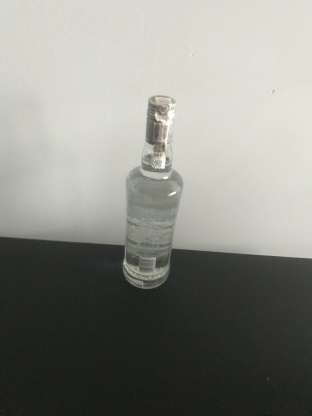nakretka: (144, 92, 177, 145)
